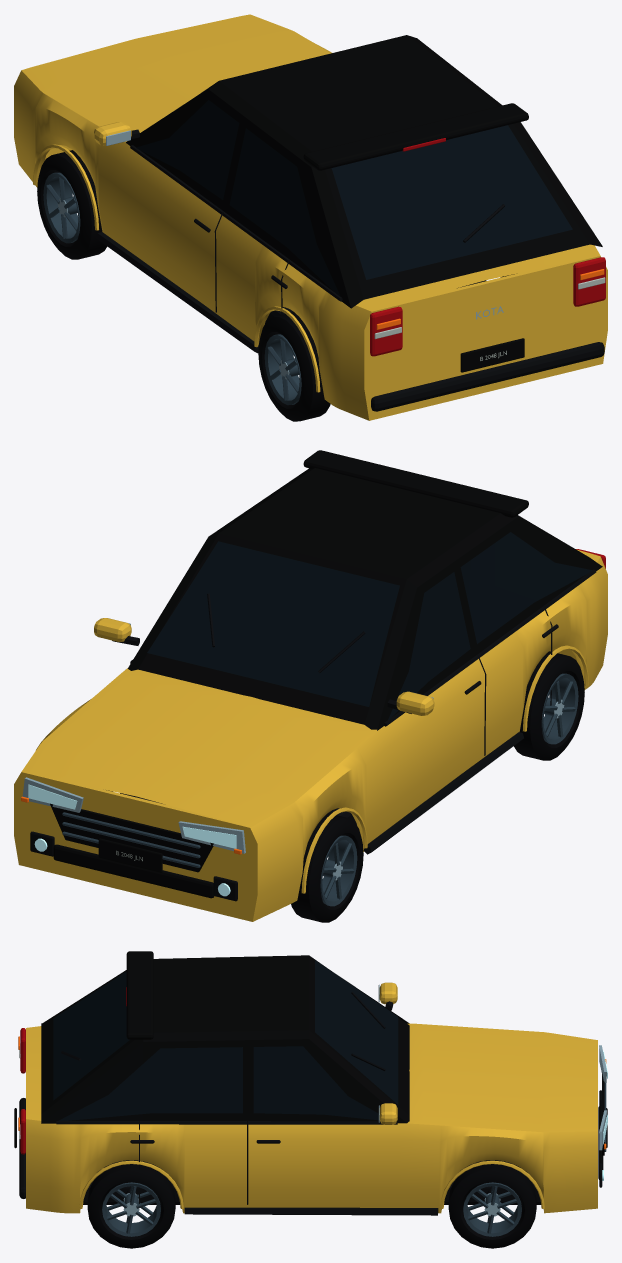
The model's file is city_hatchback_sunflower.glb.
3 renders of one model, top to bottom at view 1: azimuth 30°, elevation 25°; view 2: azimuth 150°, elevation 25°; view 3: azimuth 270°, elevation 25°, orthographic. The views are drawn at different scales.
Parts seen in each view (by area): view 1: Body_Mesh, Wheel_RL_Mesh, Wheel_FL_Mesh, TailLights_Mesh; view 2: Body_Mesh, Wheel_FL_Mesh, Wheel_RL_Mesh, Headlights_Mesh; view 3: Body_Mesh, Wheel_FR_Mesh, Wheel_RR_Mesh, TailLights_Mesh, Headlights_Mesh.
Boxes of the visible parts, bbox=[...] form: Body_Mesh: bbox=[14, 14, 607, 420]; Wheel_RL_Mesh: bbox=[258, 312, 330, 421]; Wheel_FL_Mesh: bbox=[37, 150, 106, 259]; TailLights_Mesh: bbox=[370, 138, 605, 356]; Body_Mesh: bbox=[14, 450, 607, 921]; Wheel_FL_Mesh: bbox=[291, 813, 363, 922]; Wheel_RL_Mesh: bbox=[514, 651, 584, 760]; Headlights_Mesh: bbox=[22, 777, 245, 896]; Body_Mesh: bbox=[14, 951, 607, 1215]; Wheel_FR_Mesh: bbox=[448, 1164, 536, 1248]; Wheel_RR_Mesh: bbox=[87, 1164, 175, 1248]; TailLights_Mesh: bbox=[19, 987, 126, 1154]; Headlights_Mesh: bbox=[599, 1045, 607, 1180].
Size of the model in its own units: 2.1 by 1.49 by 3.96.
Materials: 2 (1 with a texture image).
